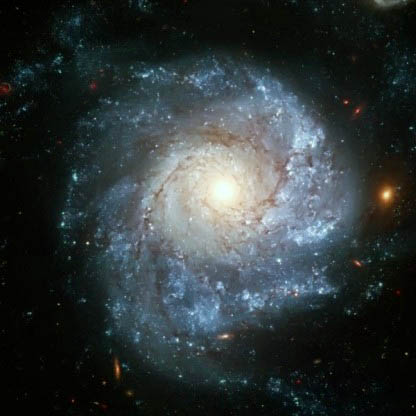NGC 1309: (33, 29, 400, 388)
